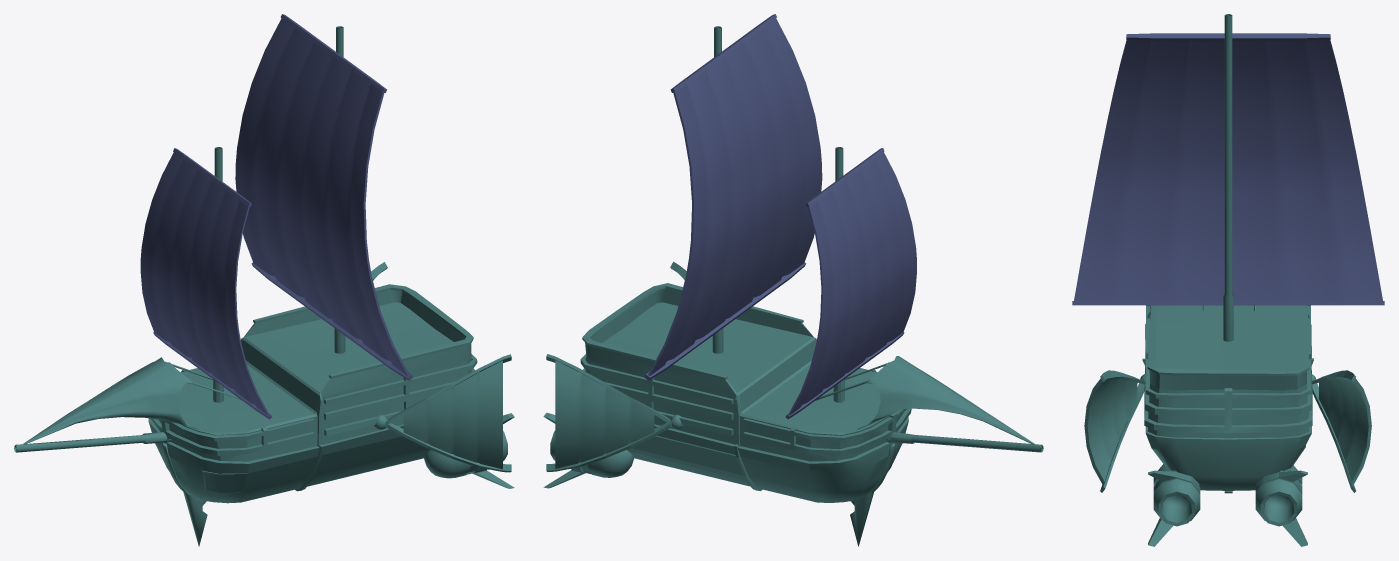
The model's file is Big_Player_Ship.fbx.
3 views of the same model, side by side, from view 1: azimuth 30°, elevation 25°; view 2: azimuth 150°, elevation 25°; view 3: azimuth 270°, elevation 25° (orthographic).
Visible parts, largest first — view 1: Hull, Sail_big, Sail_small, Side_Sail_left, Engine_3; view 2: Hull, Sail_big, Sail_small, Side_Sail_right, Engine_3; view 3: Sail_big, Hull, Engine_3, Side_Sail_left, Side_Sail_right.
Boxes of the visible parts, x1,y1,x2,y2 form: Hull: [14, 26, 477, 546]; Sail_big: [235, 14, 413, 380]; Sail_small: [140, 148, 271, 419]; Side_Sail_left: [374, 354, 511, 472]; Engine_3: [424, 413, 514, 488]; Hull: [580, 26, 1043, 546]; Sail_big: [644, 14, 822, 380]; Sail_small: [785, 148, 916, 419]; Side_Sail_right: [546, 354, 683, 471]; Engine_3: [543, 412, 633, 488]; Sail_big: [1072, 33, 1384, 305]; Hull: [1142, 14, 1313, 493]; Engine_3: [1148, 464, 1307, 546]; Side_Sail_left: [1084, 370, 1145, 492]; Side_Sail_right: [1311, 370, 1371, 492].
Bounding box in the file's own units: 111 × 112 × 65.36.
